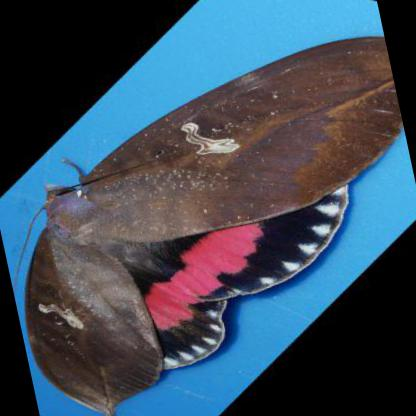fruit sucking moth: (20, 38, 398, 416)
